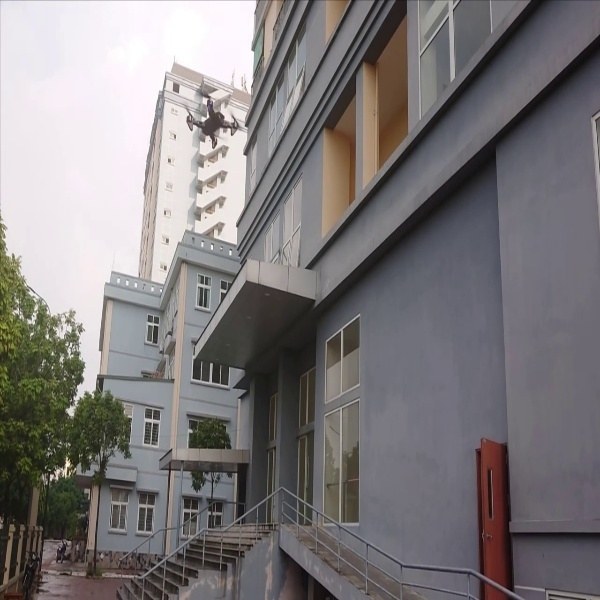drone: (176, 88, 246, 152)
